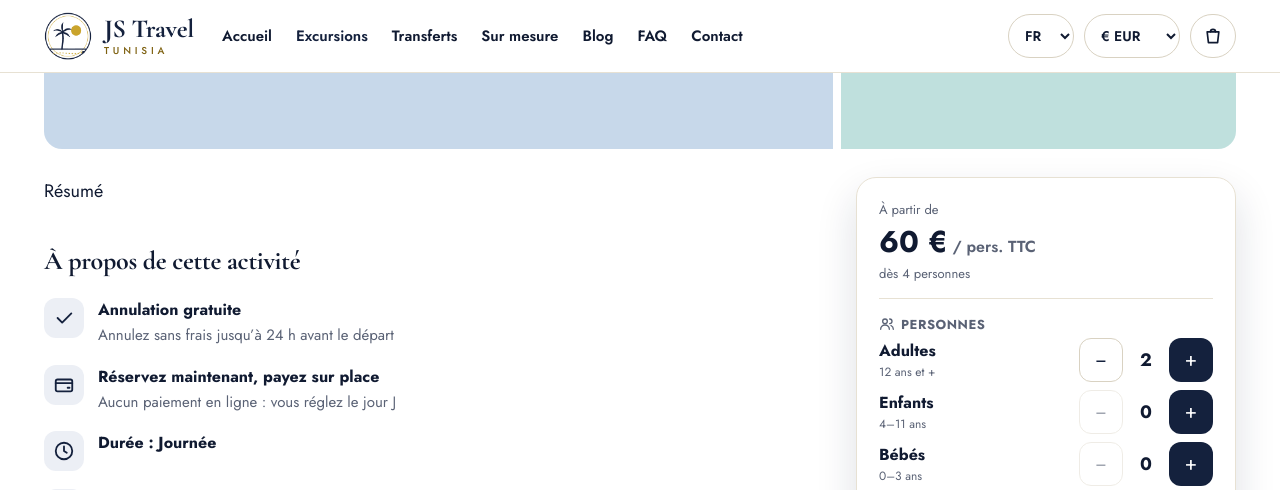
Test: site public › fiche excursion : prix selon le nombre de personnes
(page scrolled)
Click the button named "Ajouter — Adultes". click: (1191, 360)
box: [1169, 338, 1213, 382]
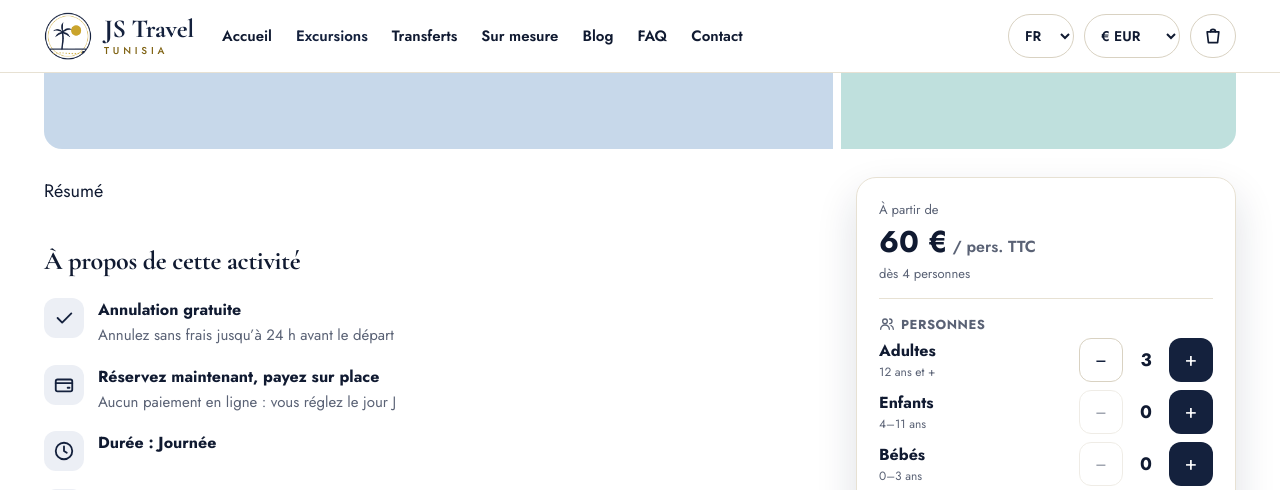
Click the button named "Ajouter — Adultes". click: (1191, 360)
box: [1169, 338, 1213, 382]
(page scrolled)
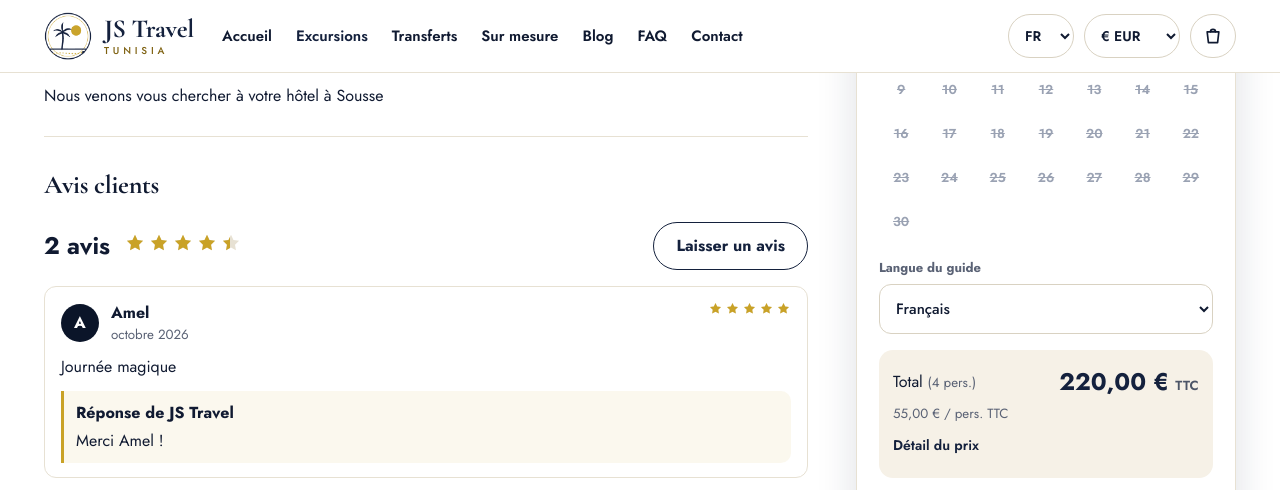
Now the text "220,00 € TTC" is shown, box [1059, 364, 1199, 400]
